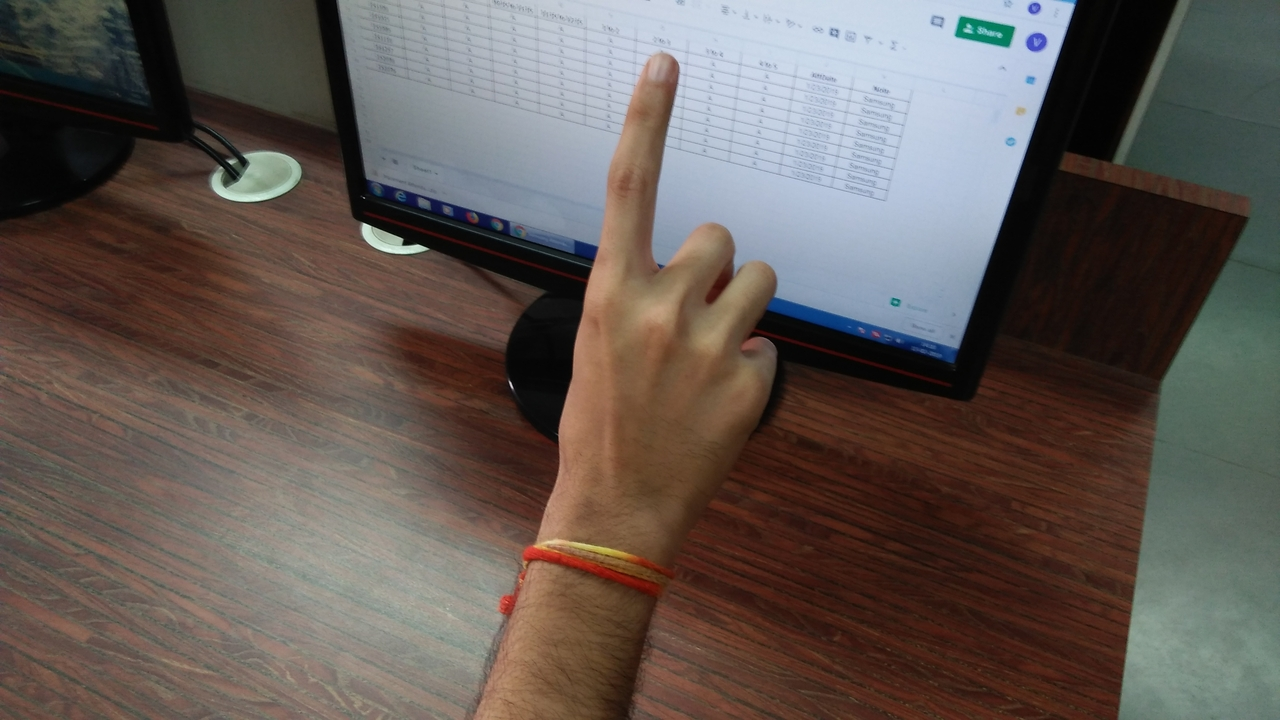fingertip: (630, 48, 682, 94)
